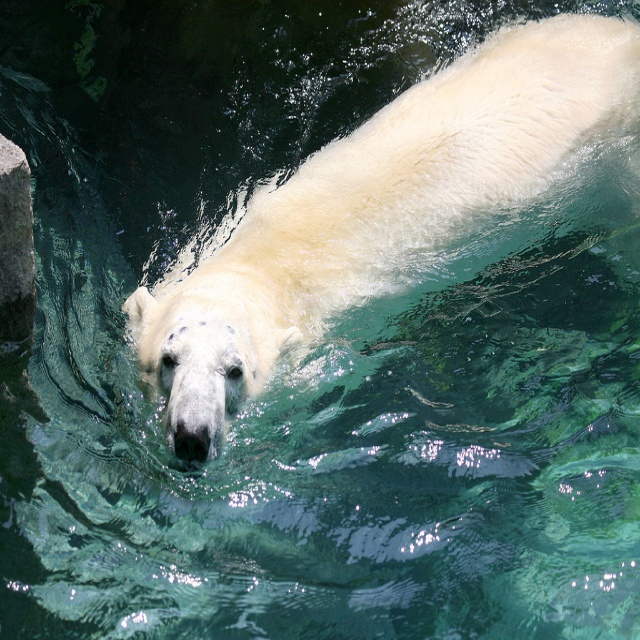Polar bear: (120, 3, 640, 462)
